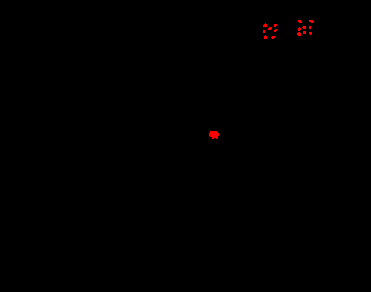Target: (209, 131, 219, 139), (263, 23, 267, 27), (297, 32, 301, 36), (309, 20, 314, 23), (298, 20, 302, 23), (302, 26, 306, 29), (268, 27, 272, 30), (298, 27, 301, 31), (264, 35, 267, 39), (271, 36, 275, 39), (274, 24, 277, 27), (274, 29, 277, 32), (303, 31, 306, 34), (309, 32, 312, 35), (309, 26, 311, 29), (263, 30, 265, 33)
